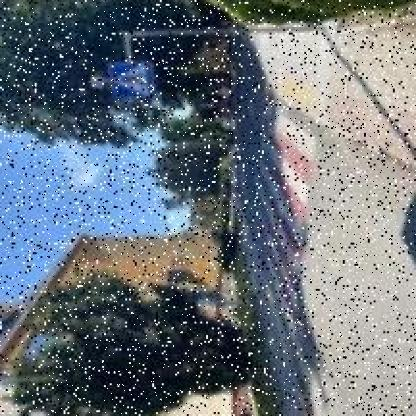Pedestrian Crossing: (110, 60, 156, 98)
